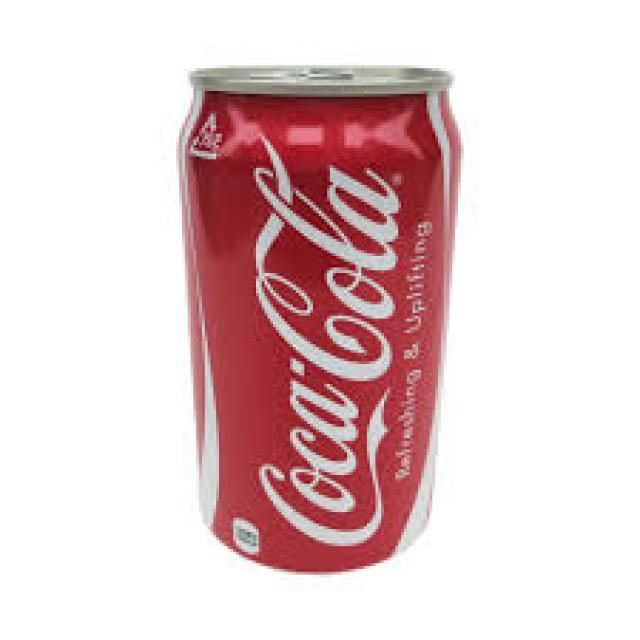recyclable: (172, 60, 464, 571)
